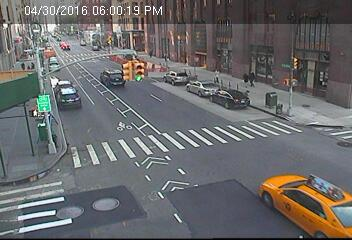neg: (148, 106, 173, 140), (80, 147, 102, 176), (18, 155, 38, 182), (82, 82, 102, 108), (199, 100, 218, 125), (168, 78, 186, 102), (57, 29, 73, 51), (215, 20, 229, 39), (100, 63, 114, 81), (32, 99, 45, 117), (269, 171, 281, 187), (285, 116, 297, 132), (139, 143, 147, 153), (141, 32, 146, 38), (281, 147, 285, 153)
pos: (242, 68, 259, 90), (240, 72, 252, 88), (211, 66, 223, 82), (27, 59, 36, 72), (148, 48, 156, 58), (18, 61, 25, 69), (24, 64, 30, 72)
